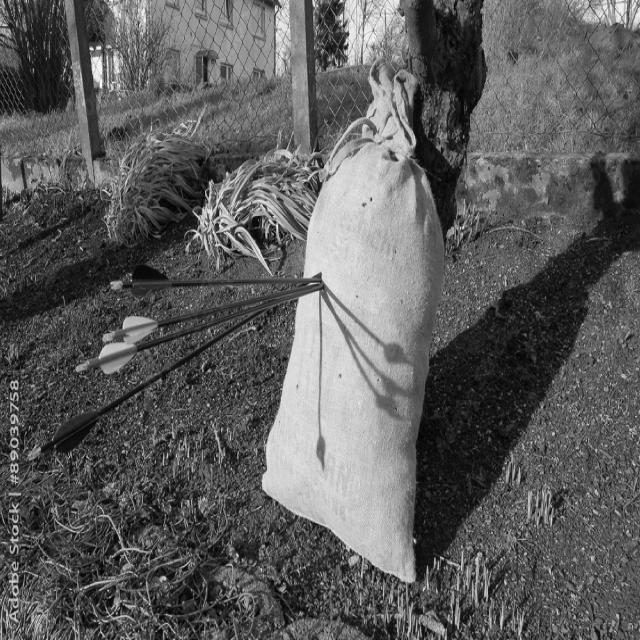sack: (260, 57, 443, 584)
